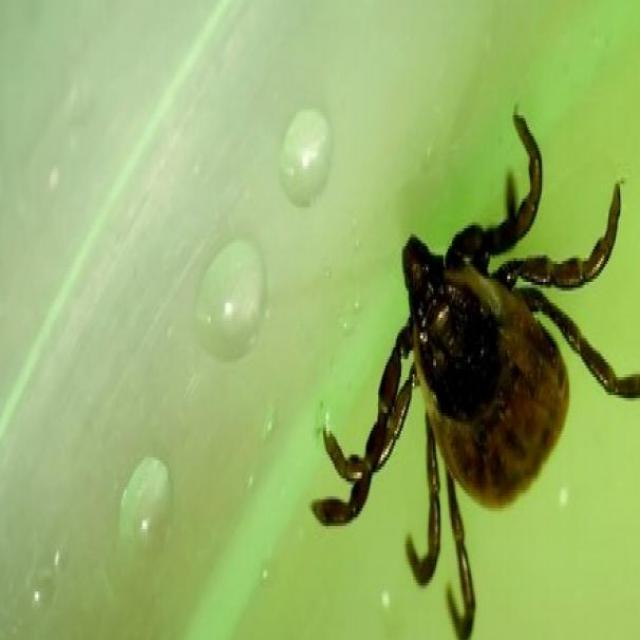Rhipicephalus Sanguineus-F: (309, 109, 640, 640)
